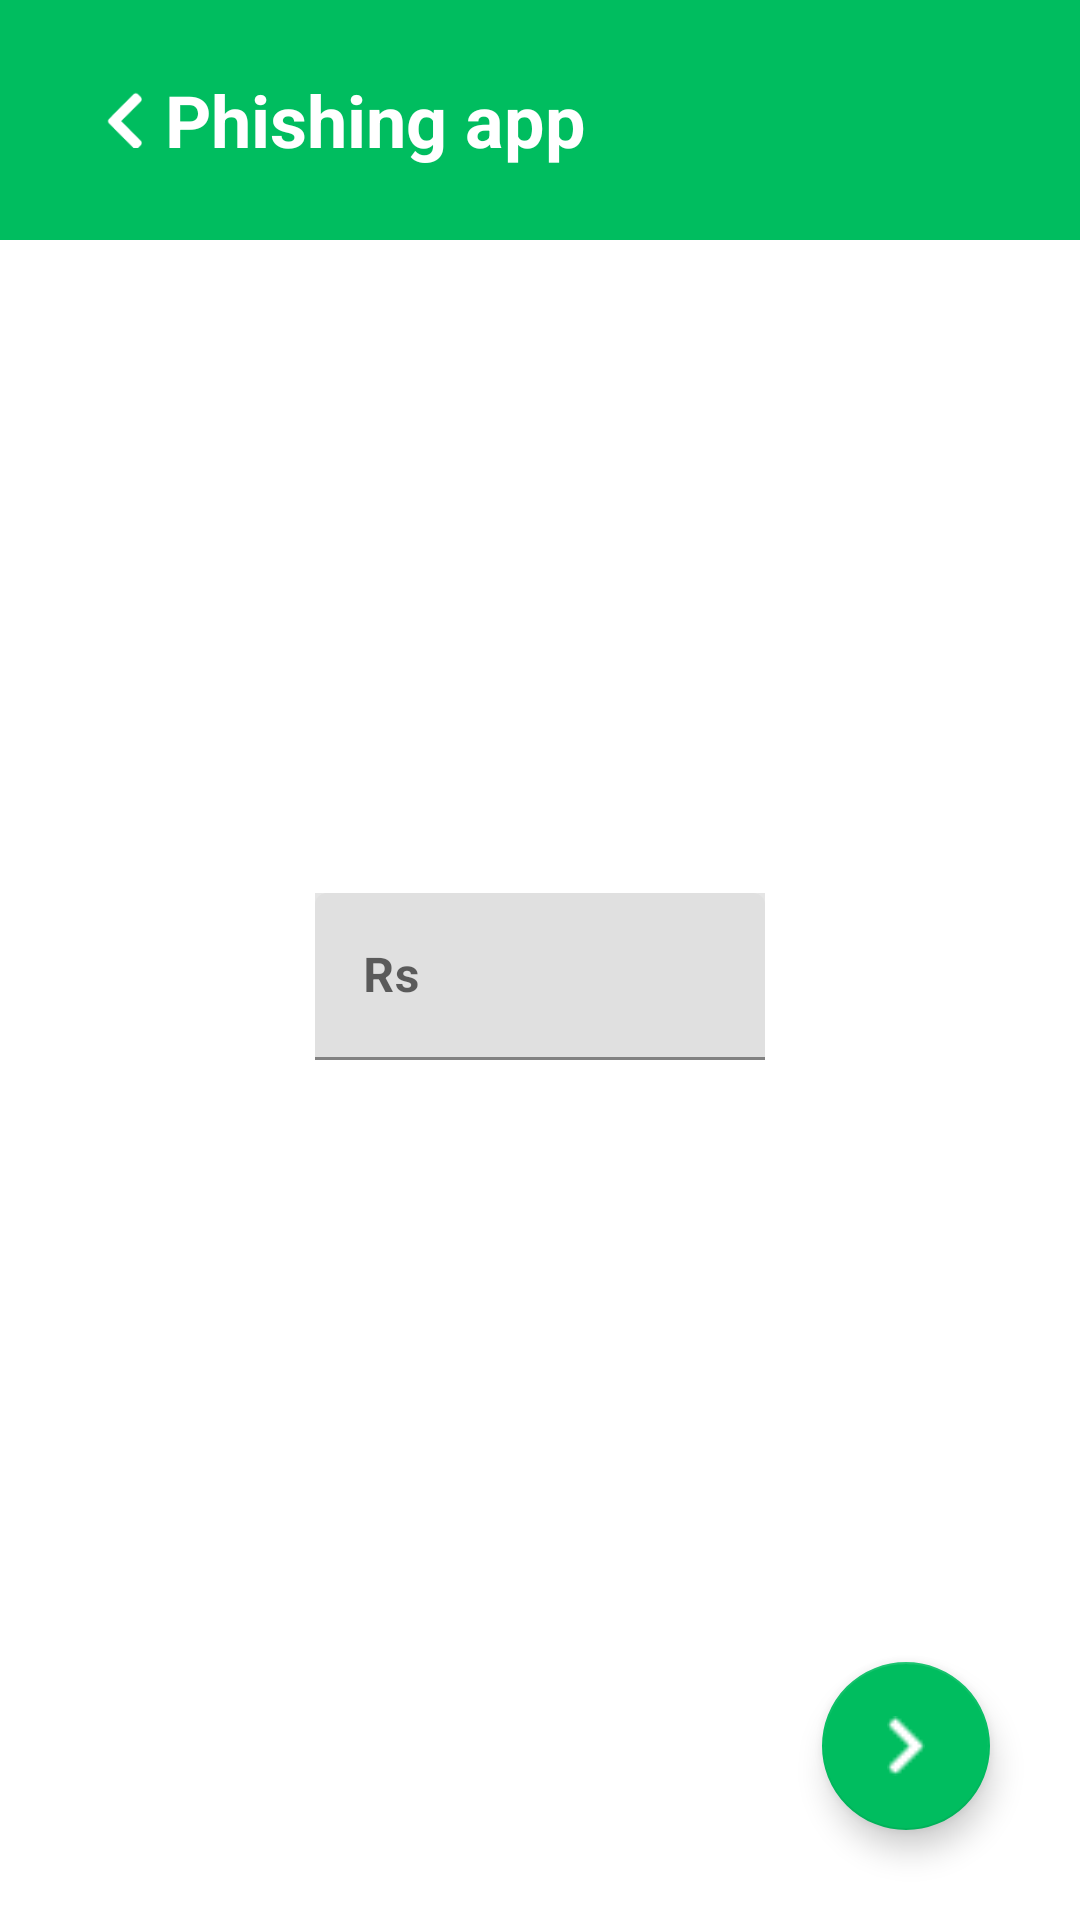

Icon click points for this 1080x1920 phone screenshot, format point (x, y):
back: point (124, 120)
forward: point (906, 1746)
